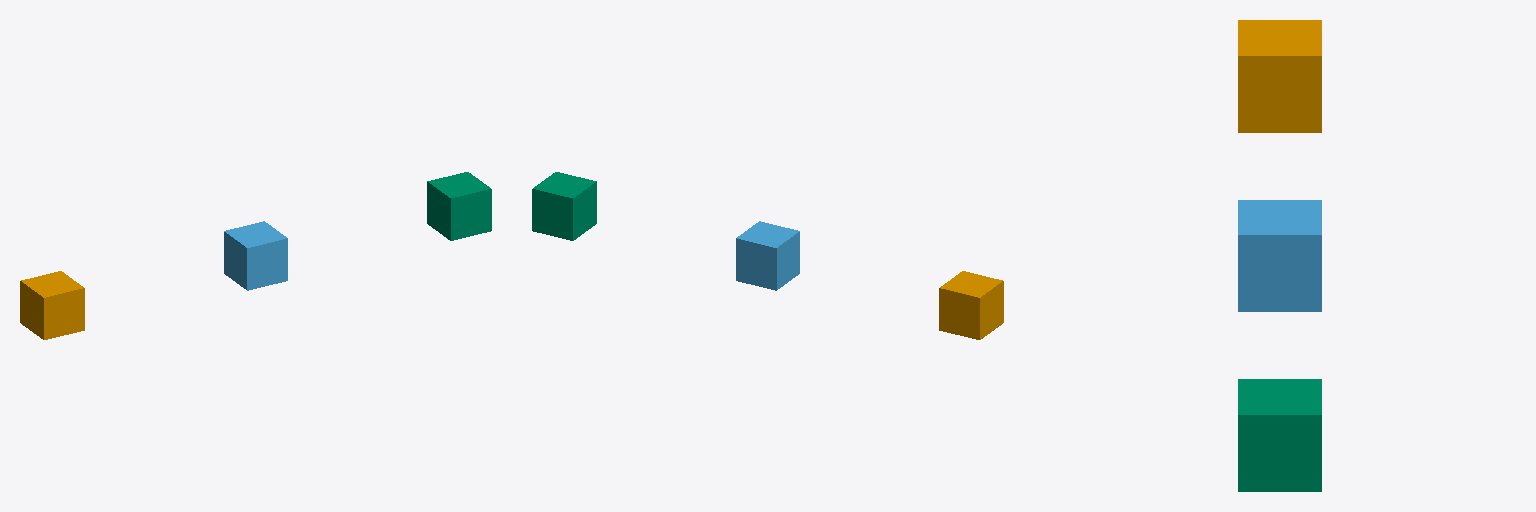
URDF robot description (points):
<?xml version="1.0" ?>
<robot name="points">

  <link name="p0">
    <visual>
      <origin xyz="2 0 0" rpy="0 0 0" />
      <geometry> <box size="0.2 0.2 0.2"/> </geometry>
    </visual>
    <collision>
      <origin xyz="2 0 0" rpy="0 0 0" />
      <geometry> <box size="0.2 0.2 0.2"/> </geometry>
    </collision>
    <inertial>
      <origin xyz="2 0 0" rpy="0 0 0" />
      <mass value="1" />
      <inertia ixx="0.001" ixy="0" ixz="0" iyy="0.001" iyz="0" izz="0.001" />
    </inertial>
  </link>
  <gazebo reference="p0"> <material>Gazebo/Yellow</material> </gazebo>

  <joint name="j01" type="fixed">
    <parent link="p0"/>
    <child  link="p1"/>
    <origin xyz="0 0 0" rpy="0 0 0"/>
  </joint>

  <link name="p1">
    <visual>
      <origin xyz="3 0 0" rpy="0 0 0" />
      <geometry> <box size="0.2 0.2 0.2"/> </geometry>
    </visual>
  </link>
  <gazebo reference="p1"> <material>Gazebo/Blue</material> </gazebo>

  <joint name="j02" type="fixed">
    <parent link="p0"/>
    <child  link="p2"/>
    <origin xyz="0 0 0" rpy="0 0 0"/>
  </joint>

  <link name="p2">
    <visual>
      <origin xyz="4 0 0" rpy="0 0 0" />
      <geometry> <box size="0.2 0.2 0.2"/> </geometry>
    </visual>
  </link>
  <gazebo reference="p2"> <material>Gazebo/Blue</material> </gazebo>

</robot>

--- Facts derived from the render (not from the file) ---
3 views of the same robot in one strip: view 1: azimuth 30°, elevation 25°; view 2: azimuth 150°, elevation 25°; view 3: azimuth 270°, elevation 25° (orthographic).
Robot: points — 3 links, 2 joints (2 fixed); root link p0; default pose: every joint at zero.
Links seen in each view (by area): view 1: p0, p2, p1; view 2: p0, p2, p1; view 3: p0, p2, p1.
Link boxes in pixels (left/top/right/bottom): p0: left=20, top=271, right=84, bottom=339; p2: left=427, top=172, right=491, bottom=240; p1: left=224, top=221, right=287, bottom=290; p0: left=939, top=271, right=1003, bottom=339; p2: left=532, top=172, right=596, bottom=240; p1: left=736, top=221, right=799, bottom=290; p0: left=1238, top=20, right=1321, bottom=132; p2: left=1238, top=379, right=1321, bottom=491; p1: left=1238, top=200, right=1321, bottom=311.
Bounding box of the posed robot: 2.2 × 0.2 × 0.2 m (x, y, z).
Geometry: primitives only (box / cylinder / sphere), no mesh files.
